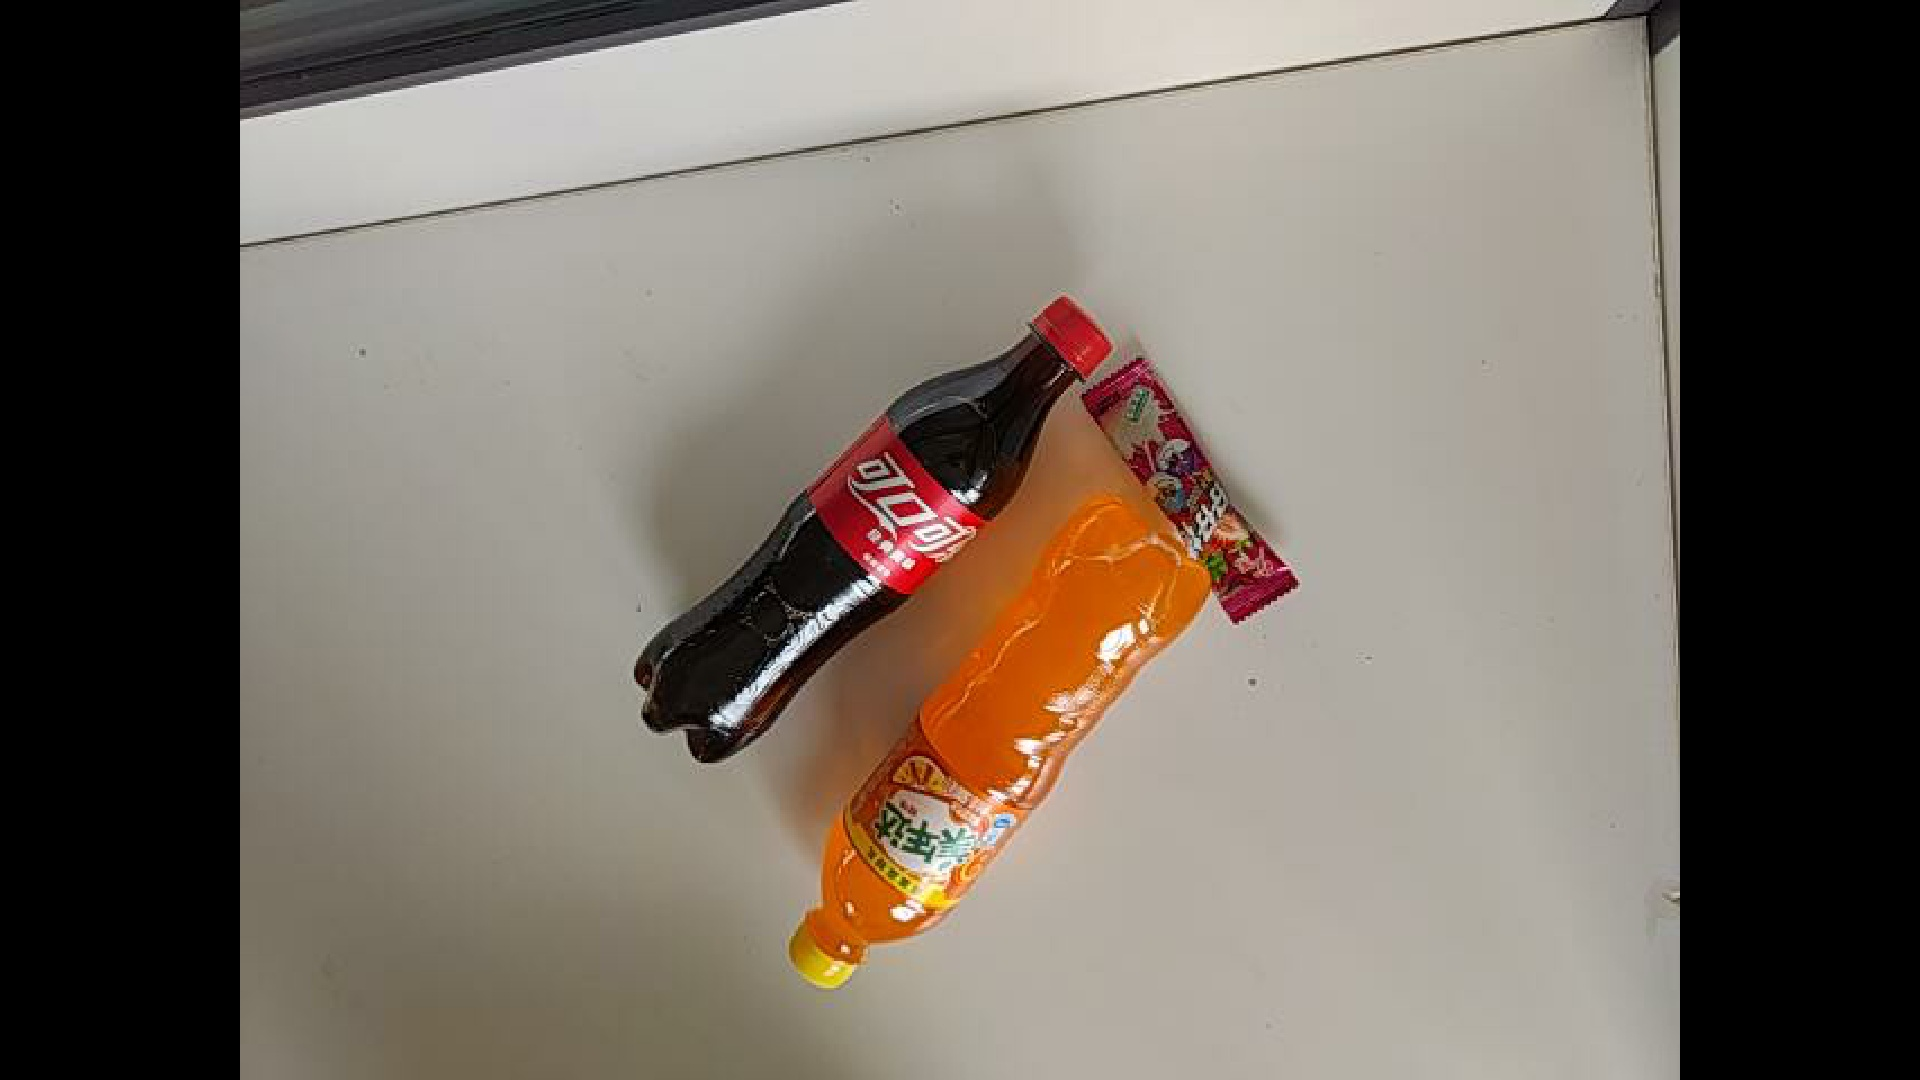cola: (600, 446, 1241, 803)
fenta: (740, 520, 1506, 1031)
sugar: (949, 347, 1304, 613)
